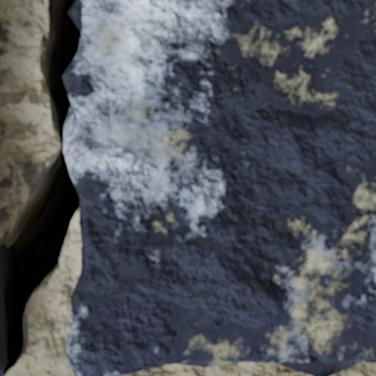brick: (64, 0, 375, 375), (0, 255, 6, 375)
crack: (0, 0, 82, 373)
